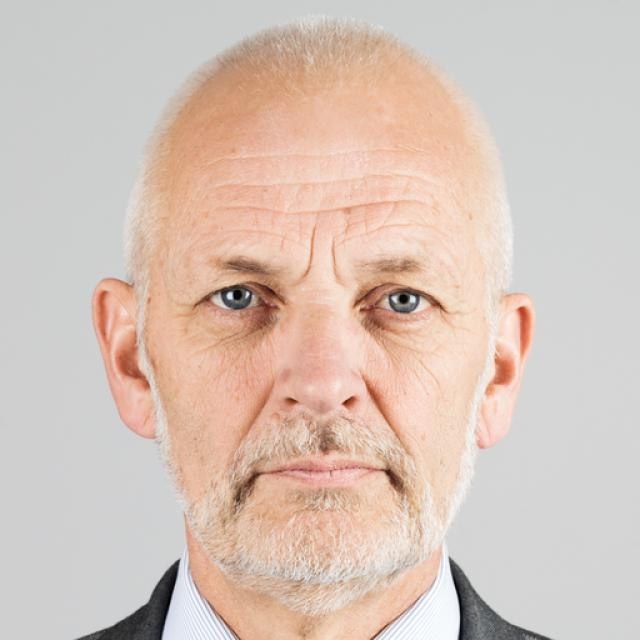Acne: (266, 408, 282, 423)
Wrinkle: (226, 191, 441, 222), (204, 142, 431, 168), (212, 170, 444, 191), (368, 376, 413, 461), (337, 215, 434, 246), (227, 378, 267, 445), (329, 239, 347, 282)
